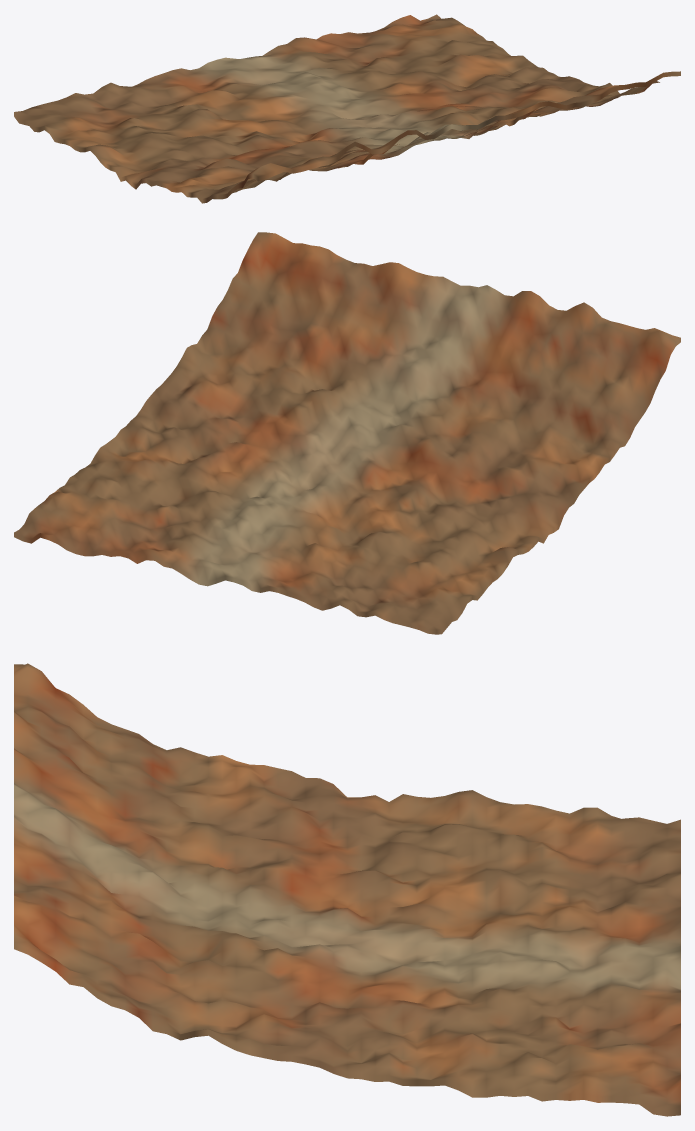
File: terrain-134.glb
3 views of the same model, one above another, from view 1: azimuth 30°, elevation 25°; view 2: azimuth 150°, elevation 25°; view 3: azimuth 270°, elevation 25° (orthographic). The views are drawn at different scales.
Visible parts, largest first — view 1: terrain-134; view 2: terrain-134; view 3: terrain-134.
Boxes of the visible parts, x1,y1,x2,y2 form: terrain-134: (14,14,680,203); terrain-134: (14,232,680,634); terrain-134: (14,663,680,1116).
Bounding box in the file's own units: 384 × 120 × 384.
